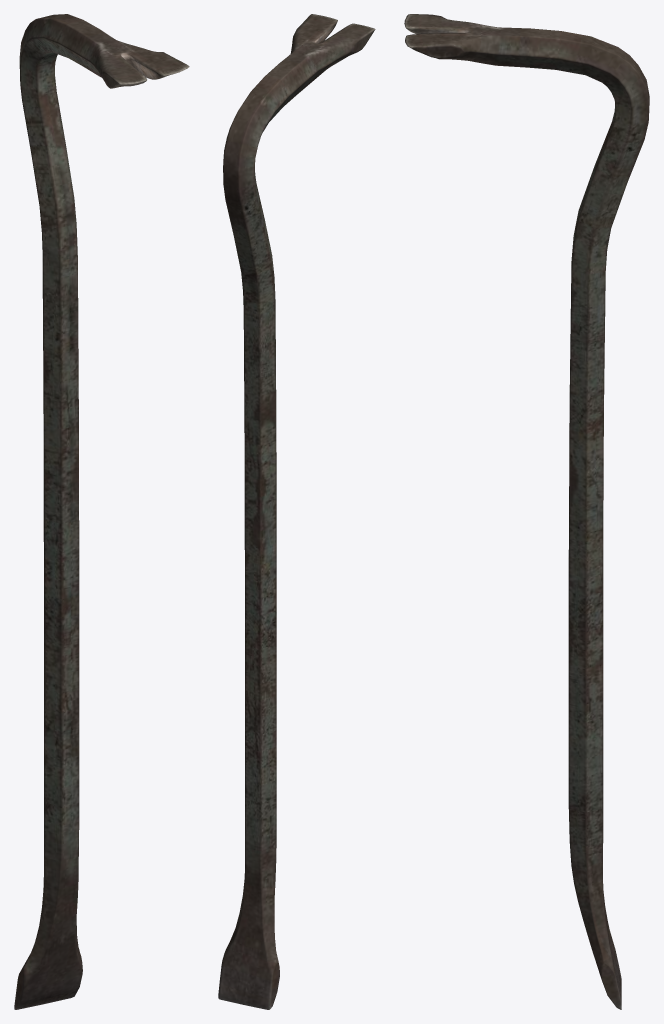
The model's file is crowbar.glb.
The picture shows the model from 3 angles, left to right: view 1: azimuth 30°, elevation 25°; view 2: azimuth 150°, elevation 25°; view 3: azimuth 270°, elevation 25°; orthographic projection. The views are drawn at different scales.
Visible parts, largest first — view 1: crowbar_01; view 2: crowbar_01; view 3: crowbar_01.
Boxes of the visible parts, x1=… form: crowbar_01: x1=14, y1=14, x2=189, y2=1009; crowbar_01: x1=218, y1=14, x2=375, y2=1009; crowbar_01: x1=404, y1=14, x2=649, y2=1009.
Size of the model in its own units: 0.0404 by 0.5554 by 0.1276.
1 material, 1 textured.
